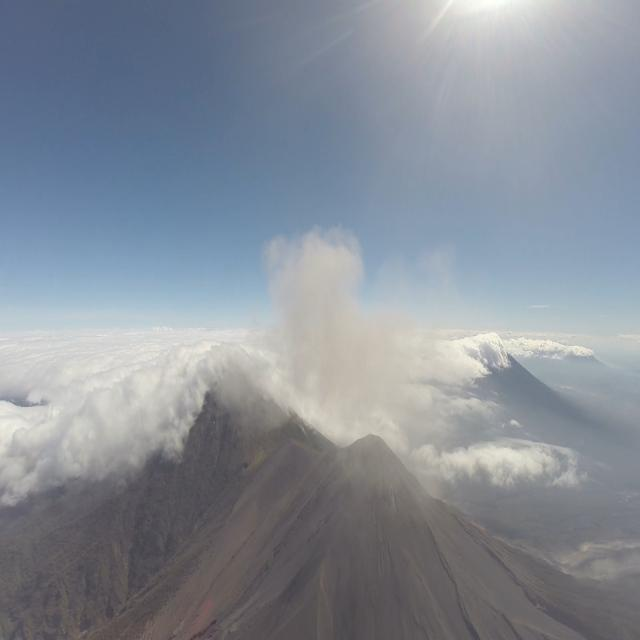Plume: (254, 226, 432, 397)
Summit: (316, 428, 434, 512)
